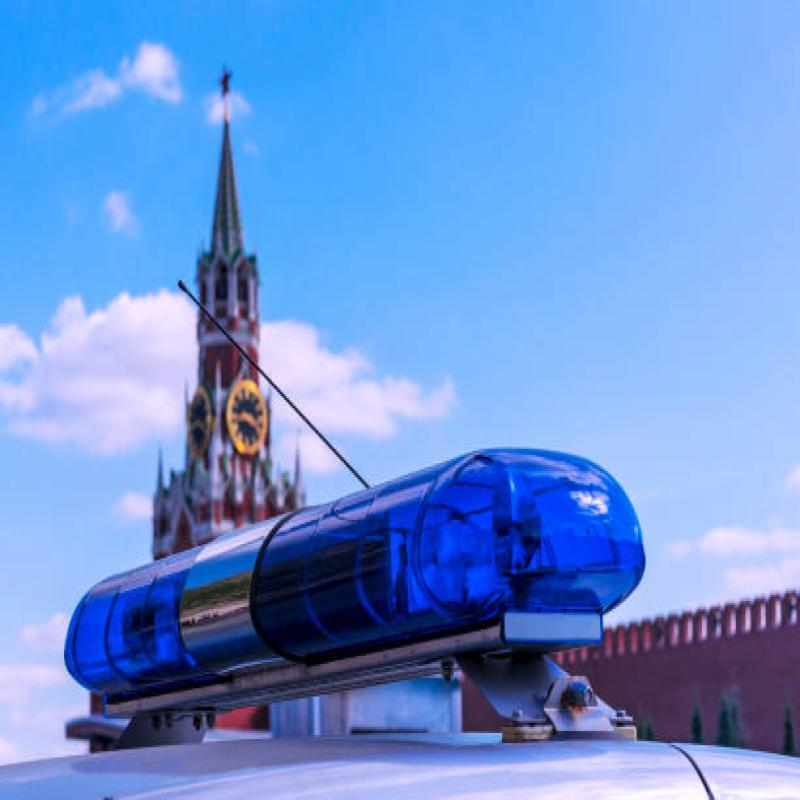AmbulanceSiren: (49, 442, 656, 744)
